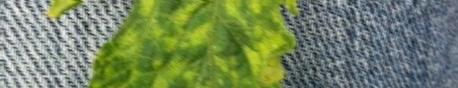Tomato leaf mosaic virus: (26, 0, 308, 88)
